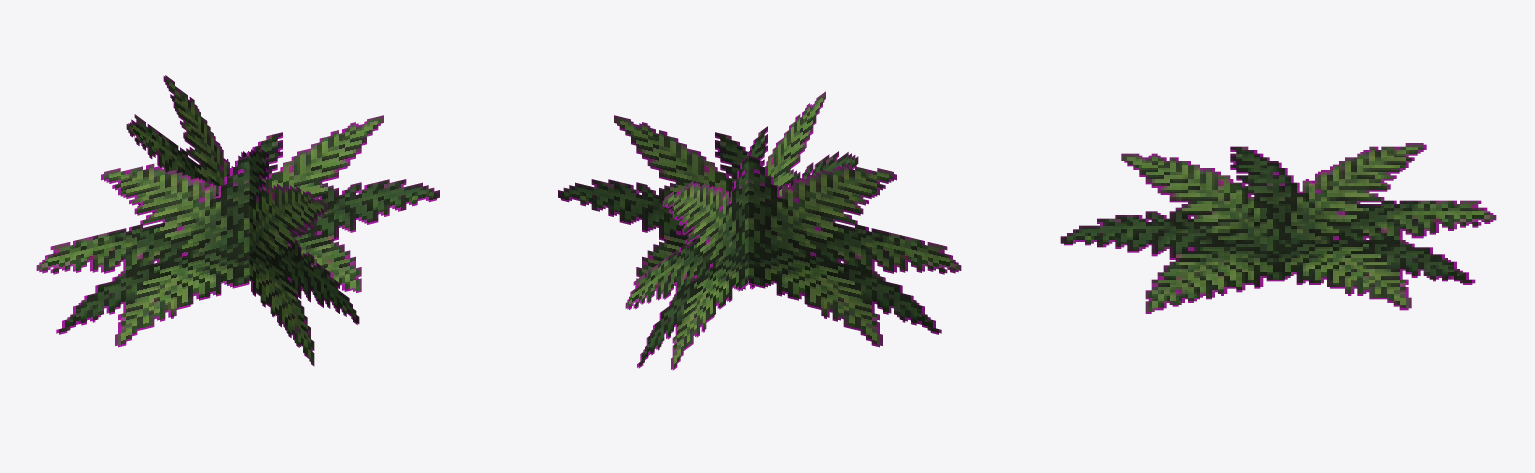
Rendered from city_fern.glb.
The picture shows the model from 3 angles, left to right: view 1: azimuth 30°, elevation 25°; view 2: azimuth 150°, elevation 25°; view 3: azimuth 270°, elevation 25°; orthographic projection. The views are drawn at different scales.
Parts seen in each view (by area): view 1: city_fern; view 2: city_fern; view 3: city_fern.
Boxes of the visible parts, x1,y1,x2,y2 form: city_fern: [36, 75, 439, 366]; city_fern: [558, 91, 961, 370]; city_fern: [1060, 143, 1496, 313].
Bounding box in the file's own units: 3.2 × 1.6 × 3.2.
Materials: 1 (1 with a texture image).
